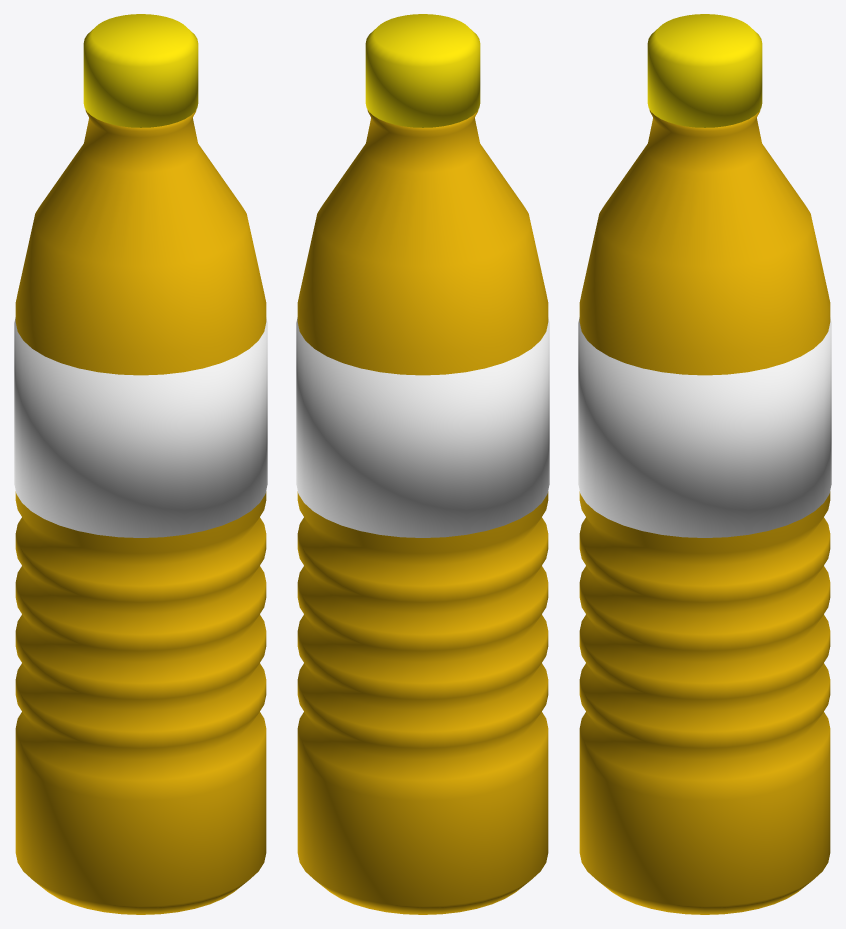
Rendered from SM_OrangeSoda.glb.
3 renders of one model, left to right at view 1: azimuth 30°, elevation 25°; view 2: azimuth 150°, elevation 25°; view 3: azimuth 270°, elevation 25°, orthographic.
Visible parts, largest first — view 1: SM_OrangeSoda; view 2: SM_OrangeSoda; view 3: SM_OrangeSoda.
Part boxes in pixels (<box>): SM_OrangeSoda: <box>14,14,267,914</box>; SM_OrangeSoda: <box>296,14,549,914</box>; SM_OrangeSoda: <box>578,14,831,914</box>.
Bounding box in the file's own units: 0.0566 × 0.206 × 0.0566.
